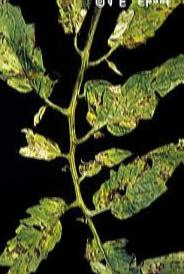Tomato Septoria leaf spot: (79, 44, 184, 138), (95, 131, 184, 221), (0, 0, 66, 108), (0, 194, 72, 274), (105, 0, 184, 48), (126, 244, 184, 274)
